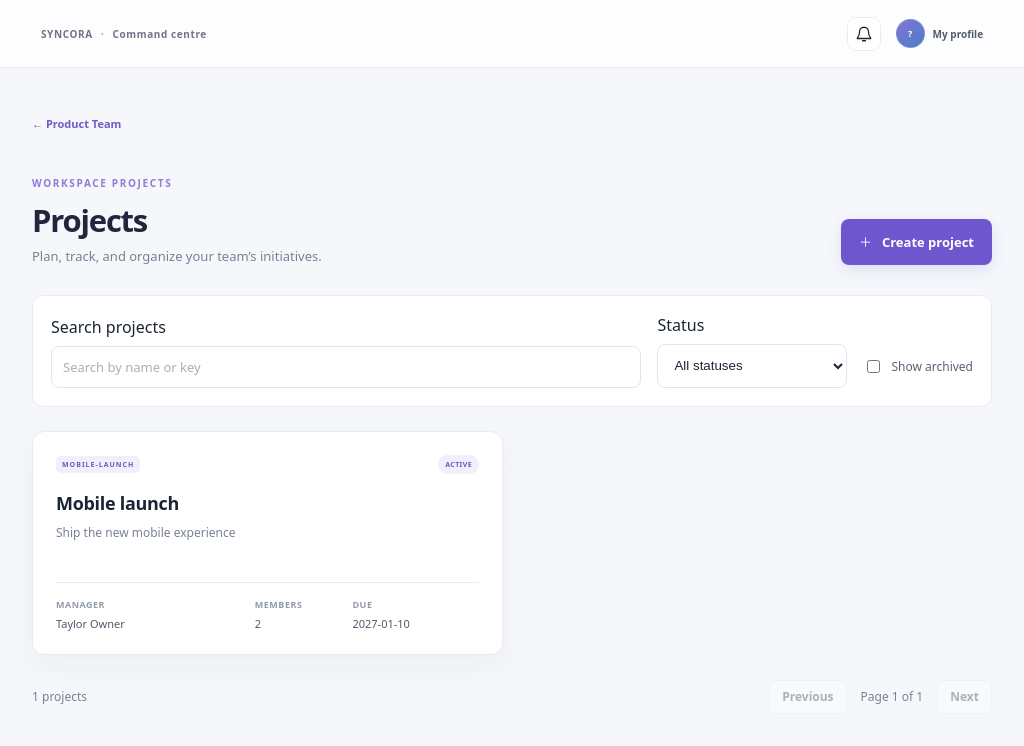
Test: project pages › does not claim project persistence if the refreshed list omits the created record
Click the button "＋ Create project": [916, 242] box [841,219,992,265]
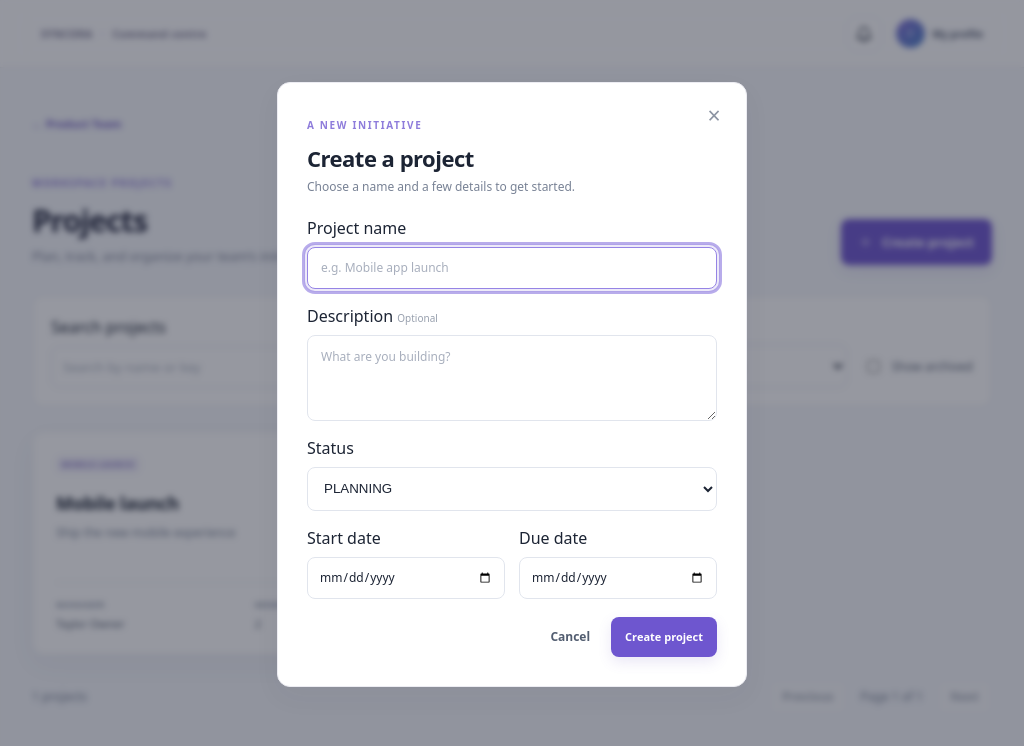
In the field labelled "Project name": [512, 268] box [307,246,717,288], type "Not persisted"
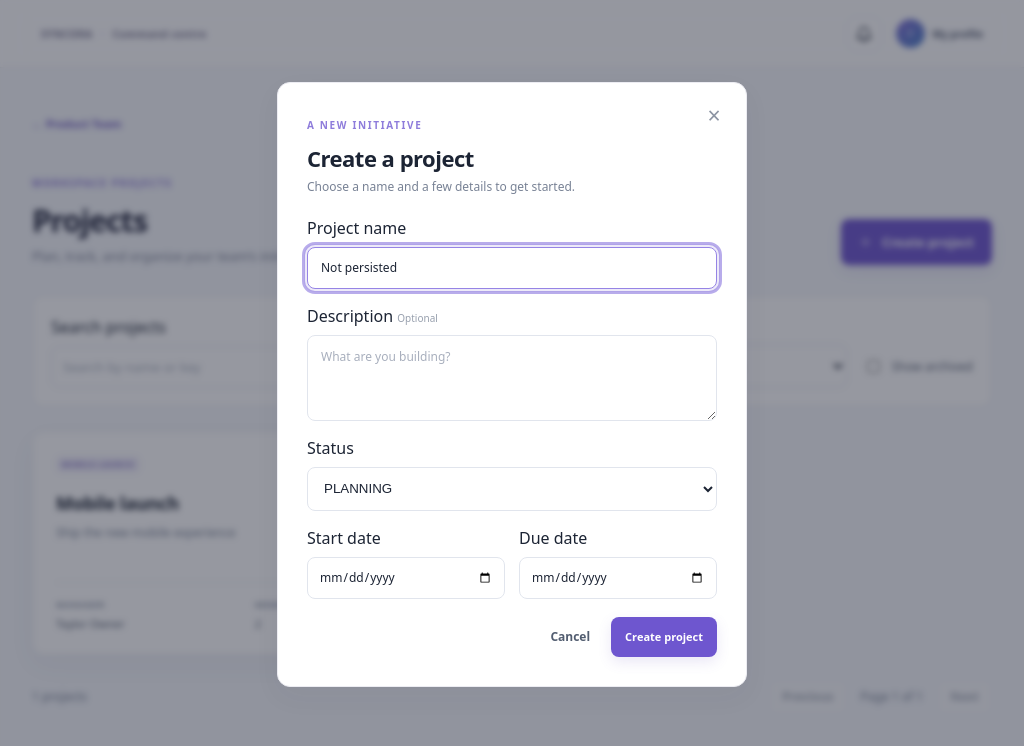
Click the button "Create project": [664, 636] box [611,616,717,656]
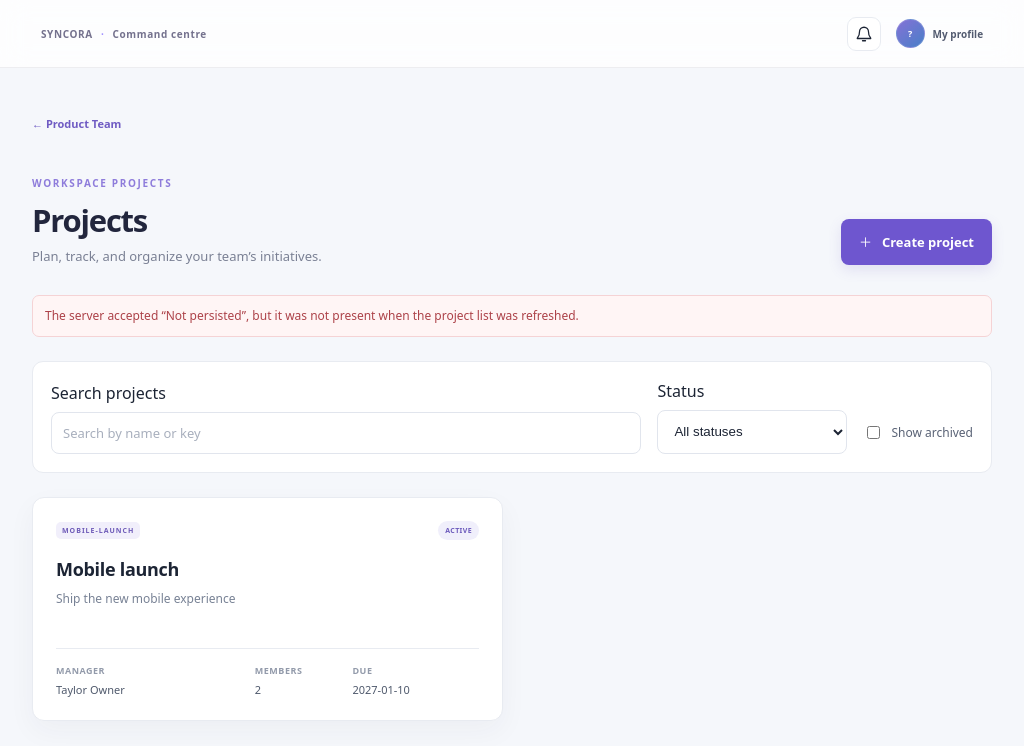
Now the message shows "The server accepted “Not persisted”, but it was not present when the project list was refreshed.", box [45,307,579,324]
